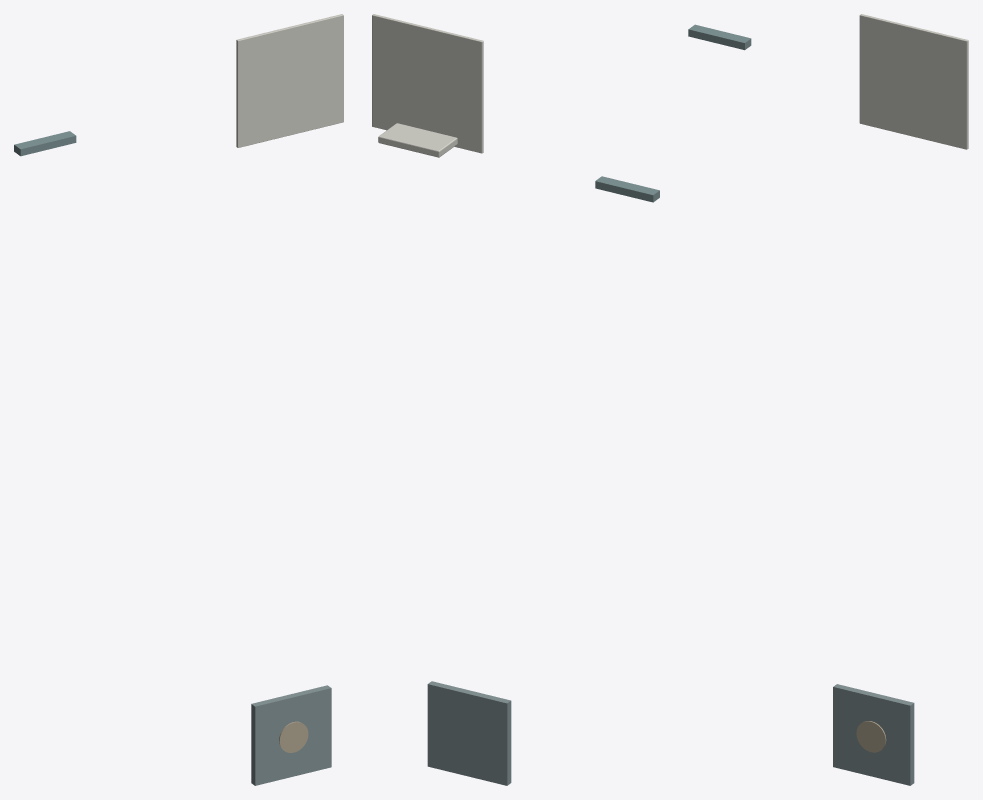
Rendered from collectible-replacements.glb.
3 views of the same model, side by side, from view 1: azimuth 30°, elevation 25°; view 2: azimuth 150°, elevation 25°; view 3: azimuth 330°, elevation 25° (orthographic). The views are drawn at different scales.
Visible parts, largest first — view 1: Furniture | Cream paper cover stock.002, PublicNeutral_AbstractPlaque, PublicNeutral_LegacyFoldSample, PublicNeutral_AbstractDisc; view 2: Furniture | Cream paper cover stock.002, PublicNeutral_AbstractPlaque, PublicNeutral_LegacyFoldSample; view 3: Furniture | Cream paper cover stock.002, PublicNeutral_AbstractPlaque, PublicNeutral_LegacyFoldSample, PublicNeutral_AbstractDisc.
Boxes of the visible parts, x1,y1,x2,y2 form: Furniture | Cream paper cover stock.002: [236, 14, 343, 147]; PublicNeutral_AbstractPlaque: [251, 685, 331, 785]; PublicNeutral_LegacyFoldSample: [14, 131, 76, 156]; PublicNeutral_AbstractDisc: [279, 721, 308, 752]; Furniture | Cream paper cover stock.002: [372, 14, 483, 157]; PublicNeutral_AbstractPlaque: [427, 681, 511, 785]; PublicNeutral_LegacyFoldSample: [595, 176, 659, 202]; Furniture | Cream paper cover stock.002: [859, 14, 968, 149]; PublicNeutral_AbstractPlaque: [833, 684, 914, 785]; PublicNeutral_LegacyFoldSample: [688, 24, 751, 50]; PublicNeutral_AbstractDisc: [856, 721, 886, 752].
Size of the model in its own units: 0.8045 by 1.87 by 0.2469.
